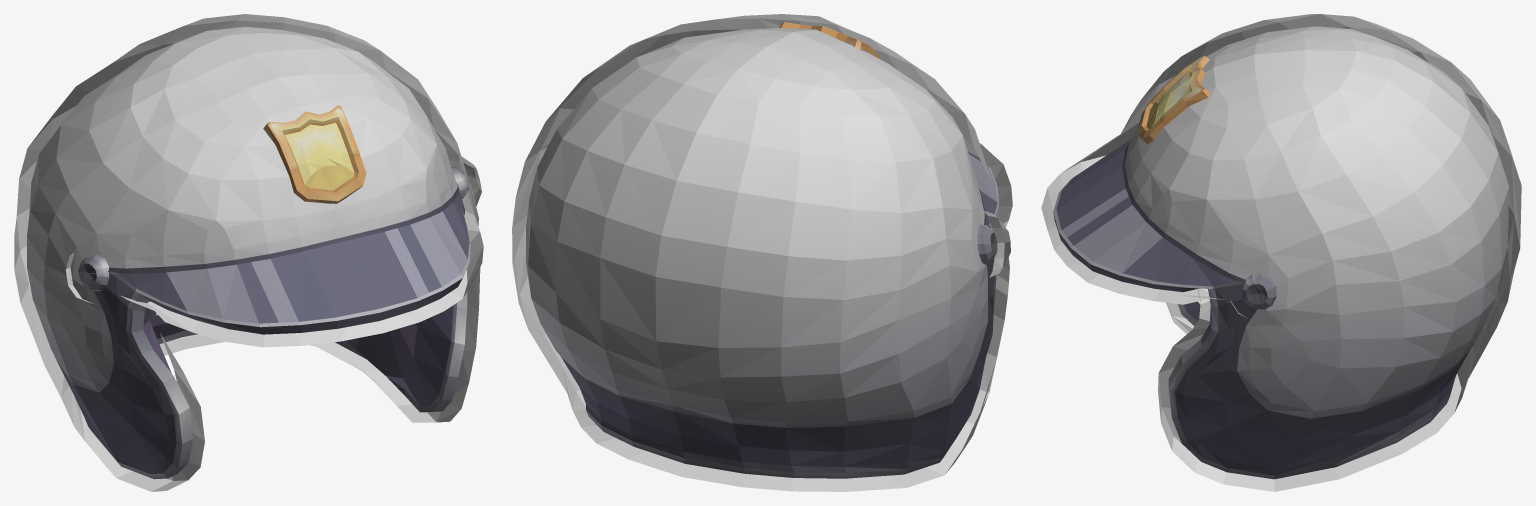
File: pickup_policeHelmet_outline_MESH.glb
3 views of the same model, side by side, from view 1: azimuth 30°, elevation 25°; view 2: azimuth 150°, elevation 25°; view 3: azimuth 270°, elevation 25° (orthographic). The views are drawn at different scales.
Parts seen in each view (by area): view 1: policeHelmet_outline; view 2: policeHelmet_outline; view 3: policeHelmet_outline.
Part boxes in pixels (box(x1,y1,x2,y2)): policeHelmet_outline: box(14, 14, 483, 491); policeHelmet_outline: box(512, 14, 1012, 491); policeHelmet_outline: box(1041, 14, 1521, 491).
Bounding box in the file's own units: 0.6576 × 0.5981 × 0.684.
